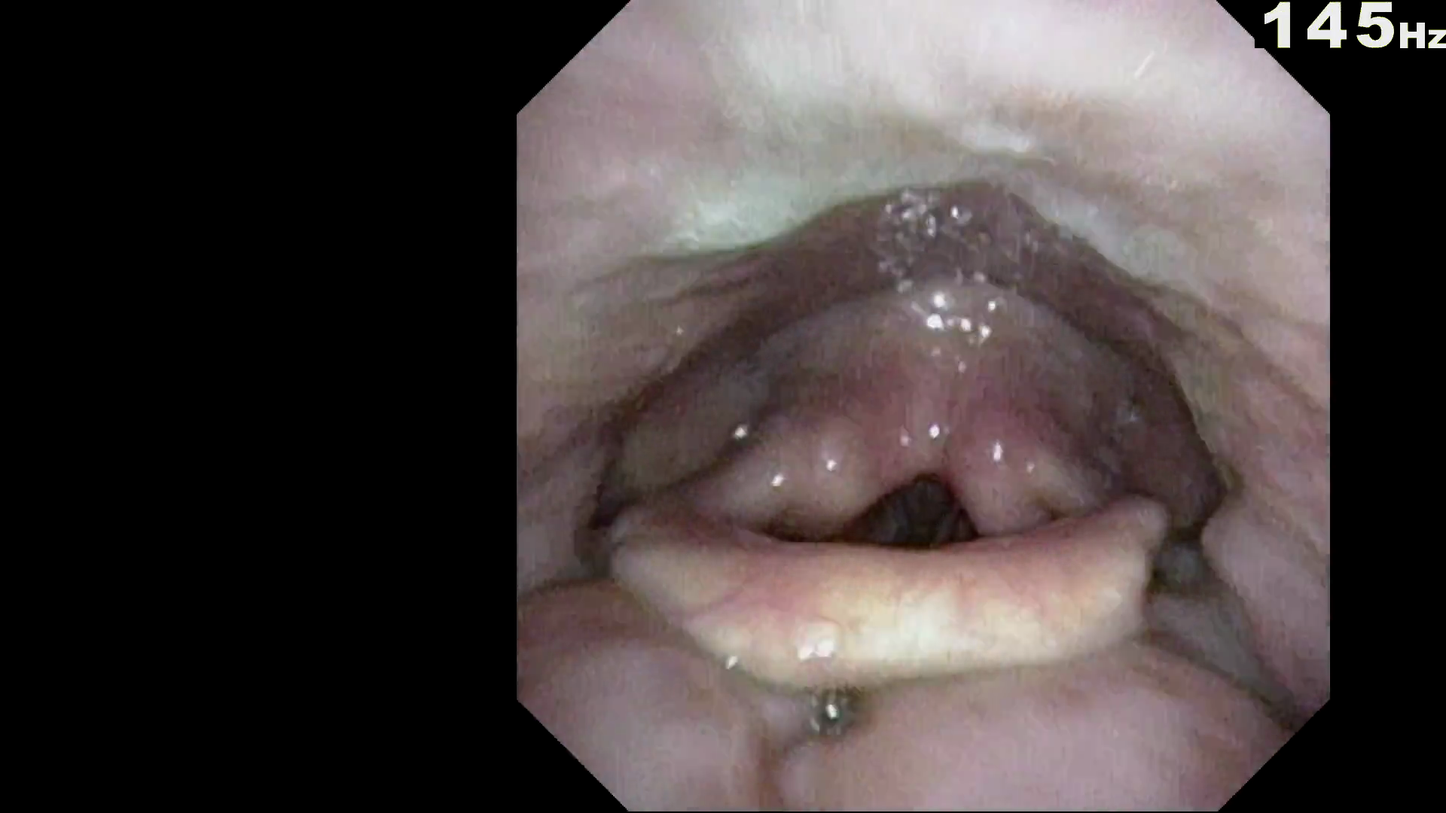epiglottis: (673, 509, 1209, 656)
trachea: (878, 464, 987, 554)
